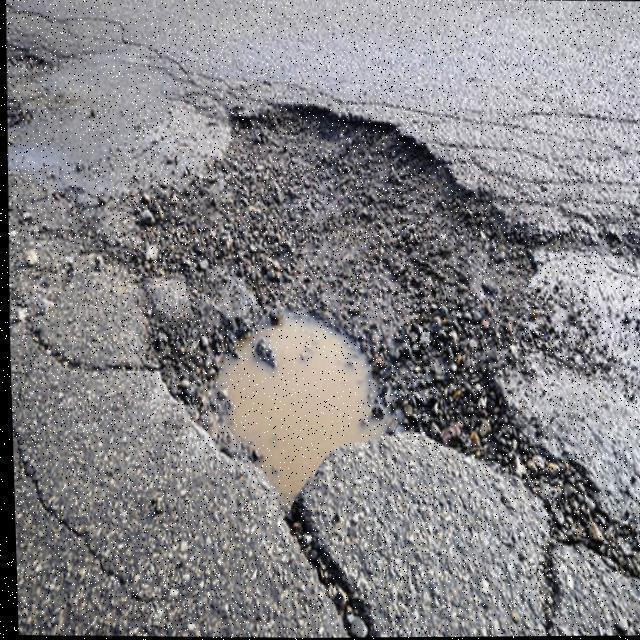Pothole: (132, 102, 639, 633)
